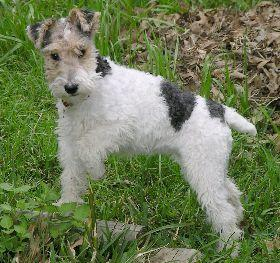wire-haired_fox_terrier: (22, 5, 261, 259)
